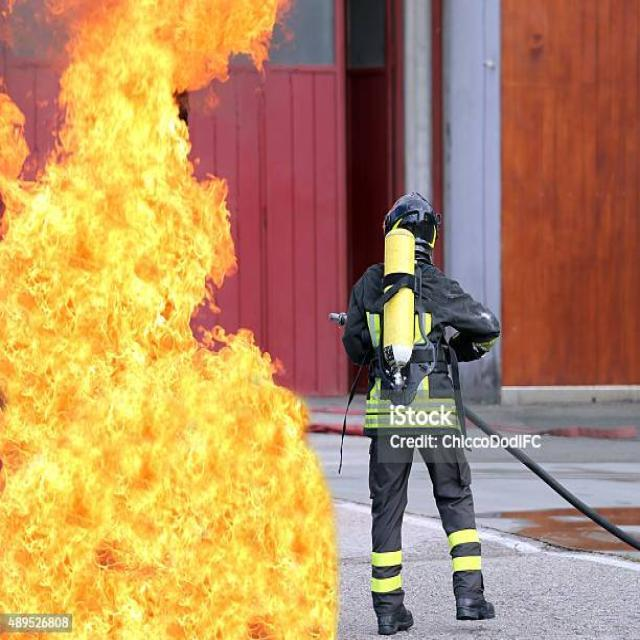Fire: (0, 0, 335, 640)
